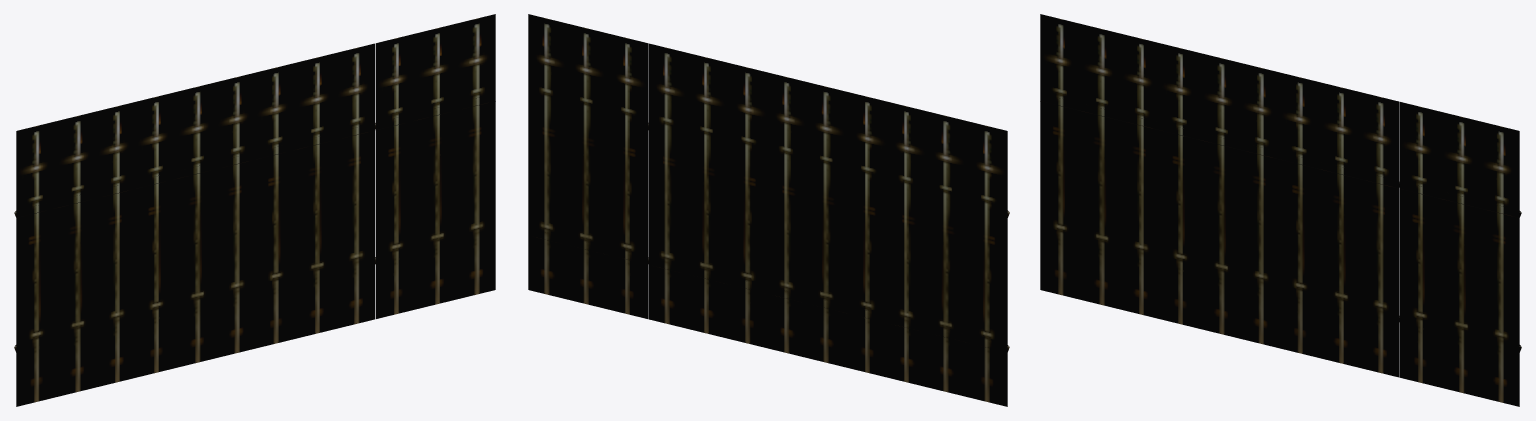
Rendered from SteelWall02.obj.
3 views of the same model, side by side, from view 1: azimuth 30°, elevation 25°; view 2: azimuth 150°, elevation 25°; view 3: azimuth 330°, elevation 25° (orthographic).
Parts seen in each view (by area): view 1: Mesh_1, Mesh_0; view 2: Mesh_1; view 3: Mesh_1, Mesh_0.
Part boxes in pixels (bbox=[...]): Mesh_1: bbox=[16, 14, 495, 406]; Mesh_0: bbox=[14, 94, 495, 352]; Mesh_1: bbox=[528, 14, 1007, 406]; Mesh_1: bbox=[1040, 14, 1519, 406]; Mesh_0: bbox=[1040, 94, 1521, 352].
Bounding box in the file's own units: 4 × 2.2 × 0.0644.
2 materials, 2 textured.
